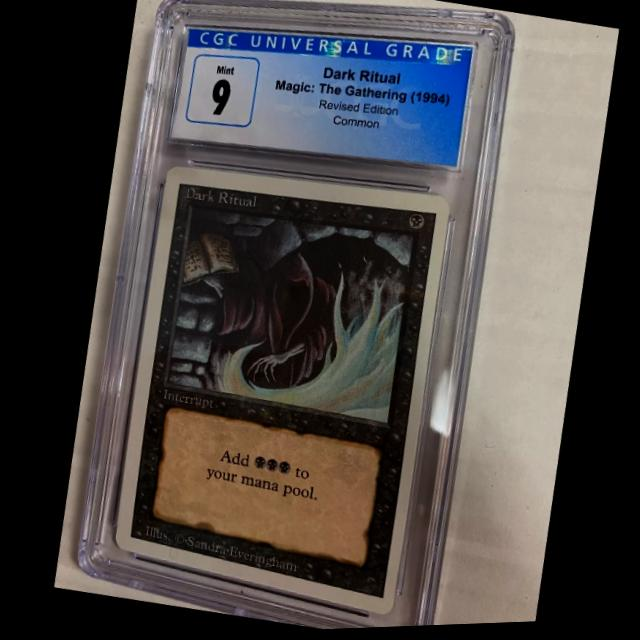card: (107, 165, 450, 621)
cgc_label_old: (168, 30, 473, 172)
cgc_slab: (68, 0, 518, 632)
